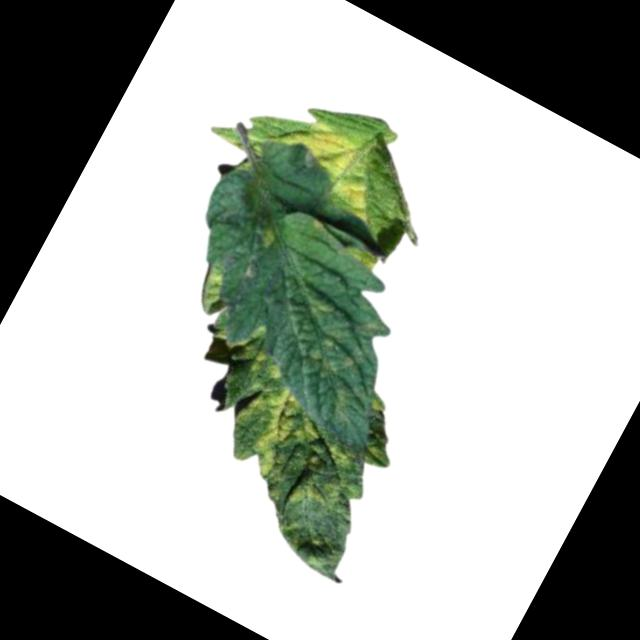Leaf_Mold: (236, 264, 402, 425), (259, 104, 399, 224), (216, 371, 314, 482)
